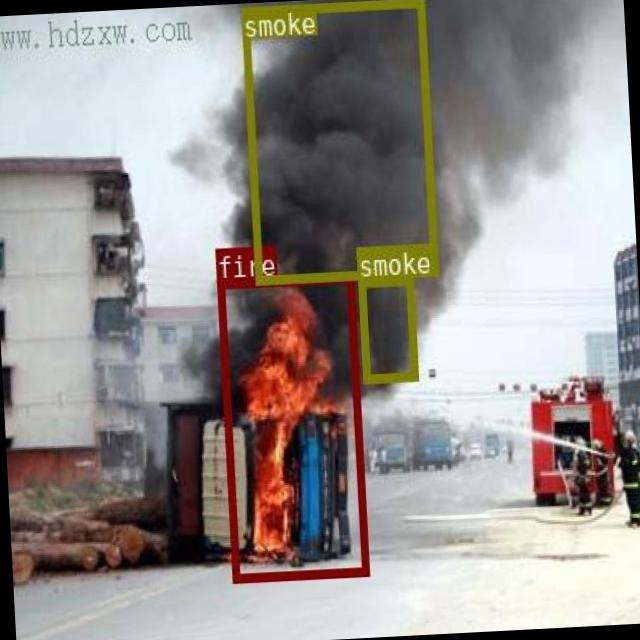fire: (216, 272, 368, 580)
smoke: (240, 0, 437, 282), (357, 274, 416, 382)
